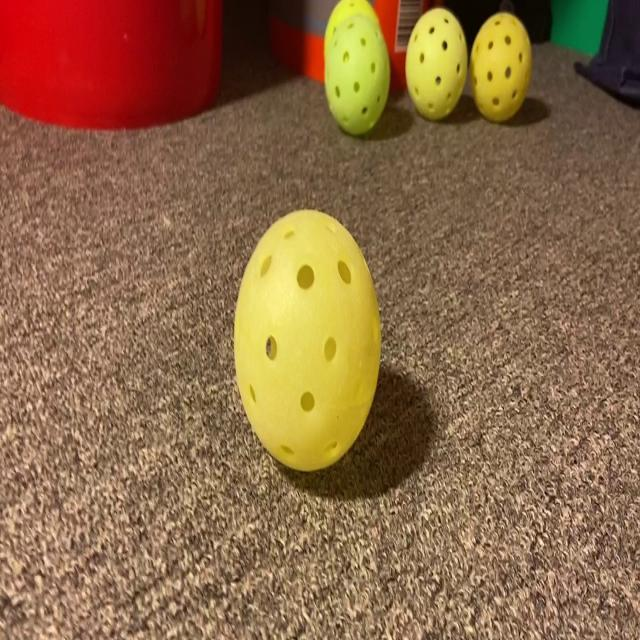ball: (217, 204, 394, 490)
